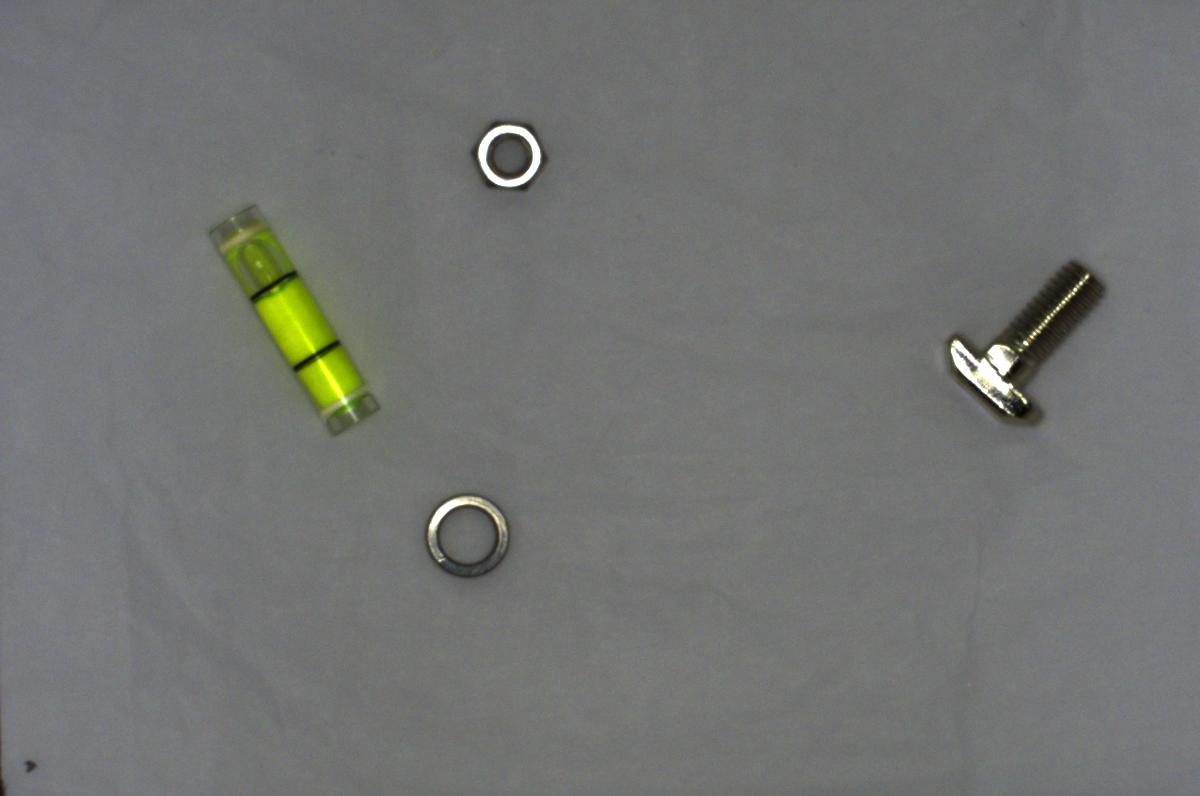Hexagon nut: (461, 115, 557, 194)
Horizontal bubble: (199, 196, 386, 443)
Spring washer: (413, 489, 524, 581)
T-shaped screw: (939, 245, 1114, 442)
